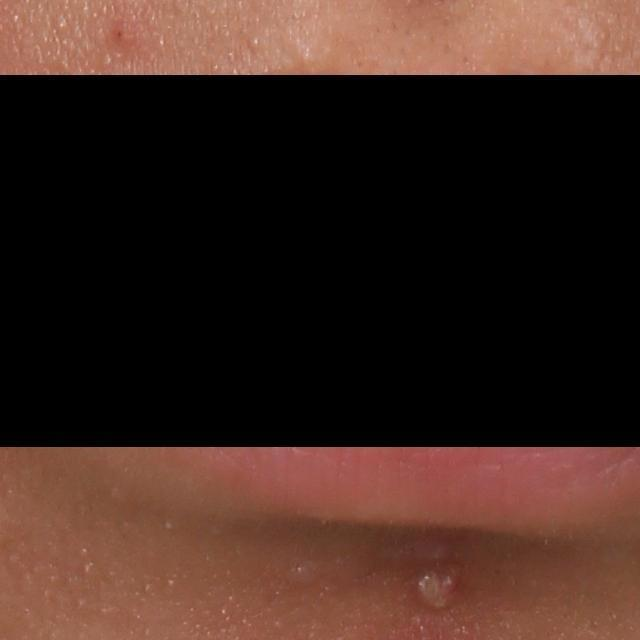comedo: (244, 32, 262, 53)
papule: (111, 21, 138, 49)
pustule: (397, 560, 462, 618)
